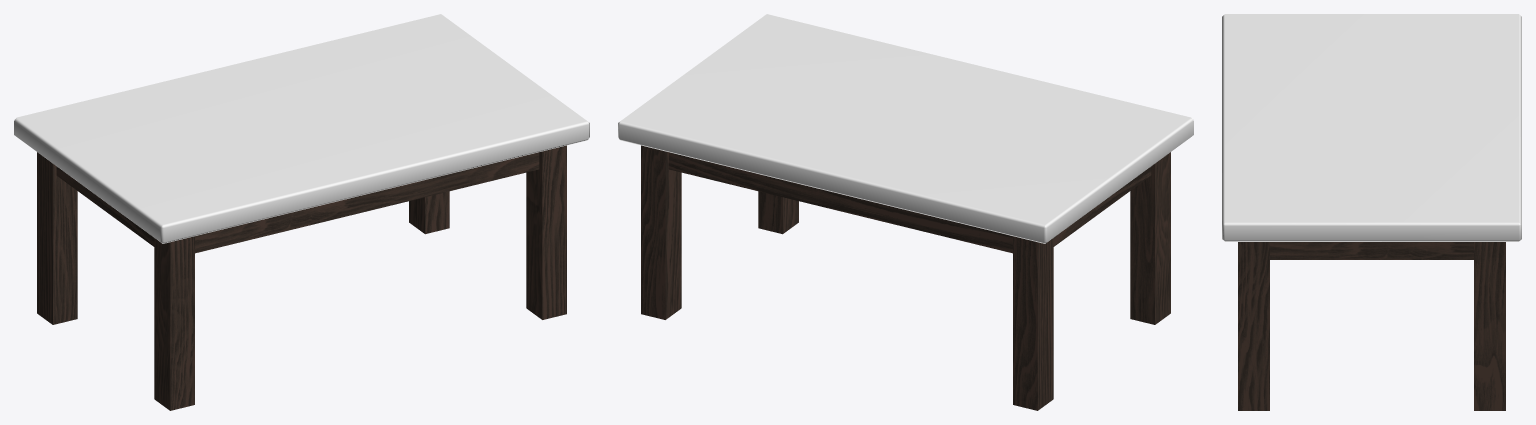
Rendered from kitchen_table_004.fbx.
The picture shows the model from 3 angles, left to right: view 1: azimuth 30°, elevation 25°; view 2: azimuth 150°, elevation 25°; view 3: azimuth 270°, elevation 25°; orthographic projection.
Parts seen in each view (by area): view 1: kitchen_table_004; view 2: kitchen_table_004; view 3: kitchen_table_004.
Boxes of the visible parts, x1,y1,x2,y2 form: kitchen_table_004: (14, 14, 589, 410); kitchen_table_004: (618, 14, 1193, 410); kitchen_table_004: (1222, 14, 1521, 410).
Size of the model in its own units: 204 by 123 by 88.45.
